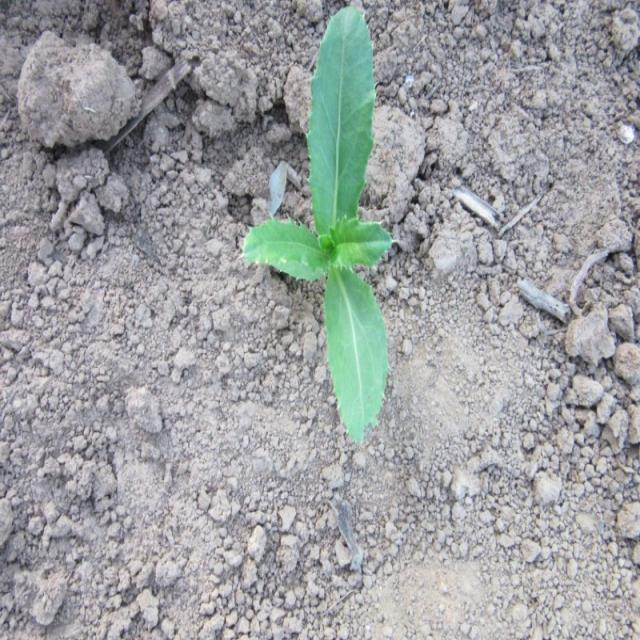cs: (239, 4, 398, 446)
